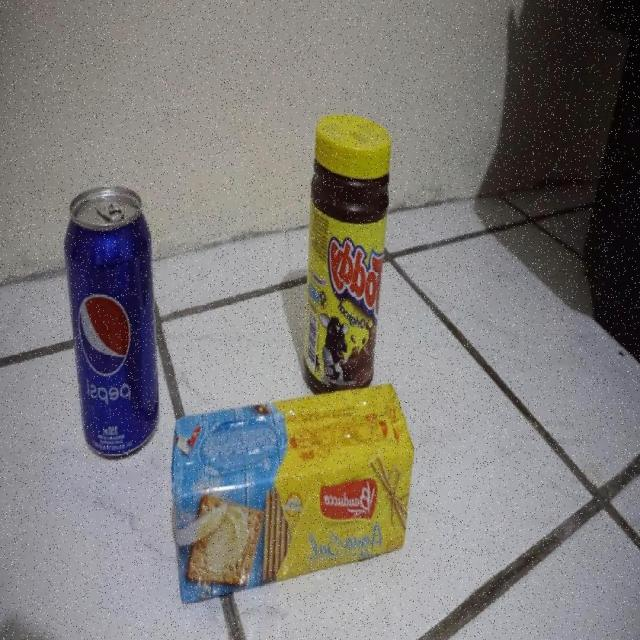ChocolatePowder: (301, 110, 392, 407)
Cracker: (170, 379, 418, 606)
SodaCan: (62, 183, 161, 462)
